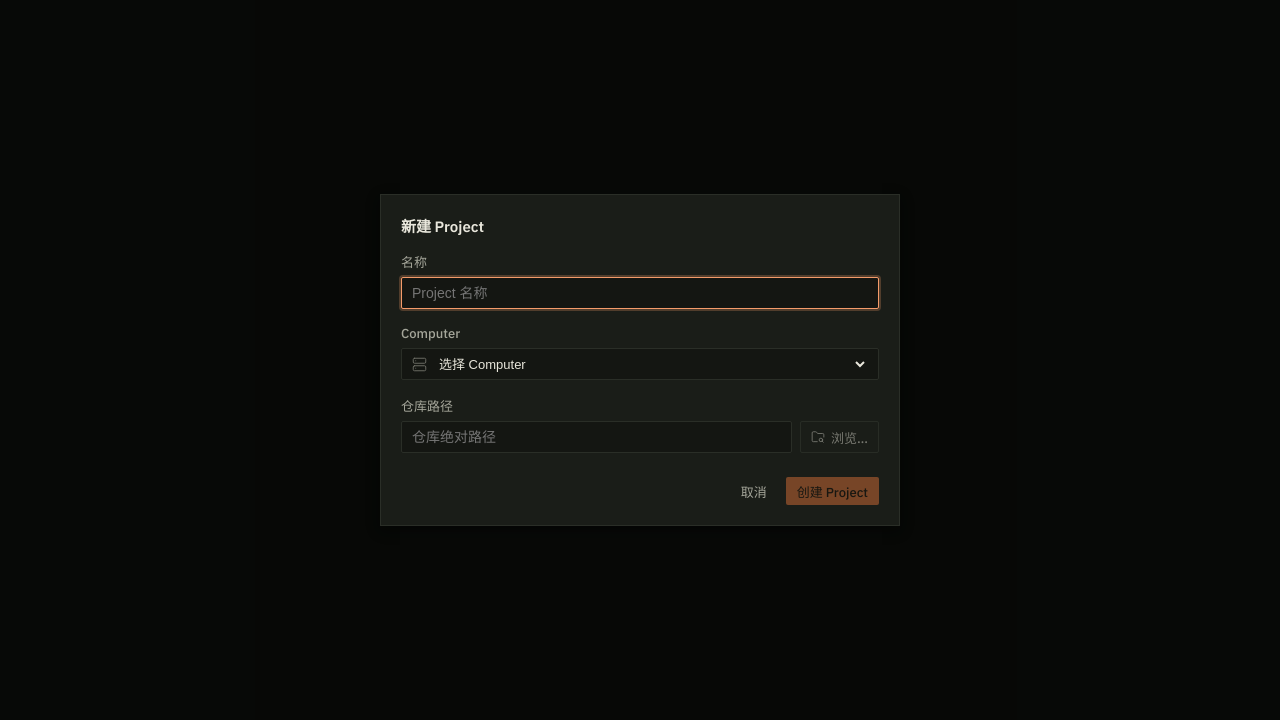
Test: NewProjectModal › VALIDATION_FAILED 就地报错不关窗
Type "Bad" into the field labelled "名称".
click(640, 293); type("Bad")  # box x1=412 y1=285 x2=868 y2=301
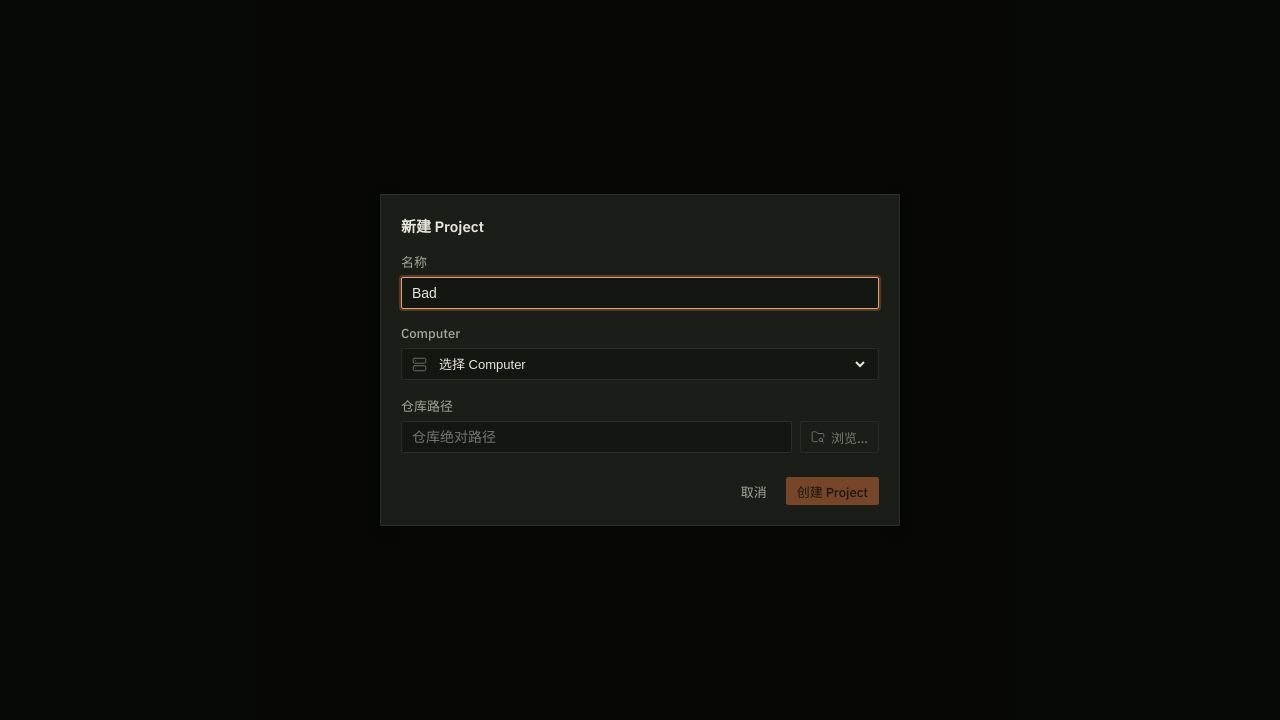
Select "本机" in the dropdown labelled "Computer" at (652, 364), box x1=435 y1=349 x2=868 y2=379
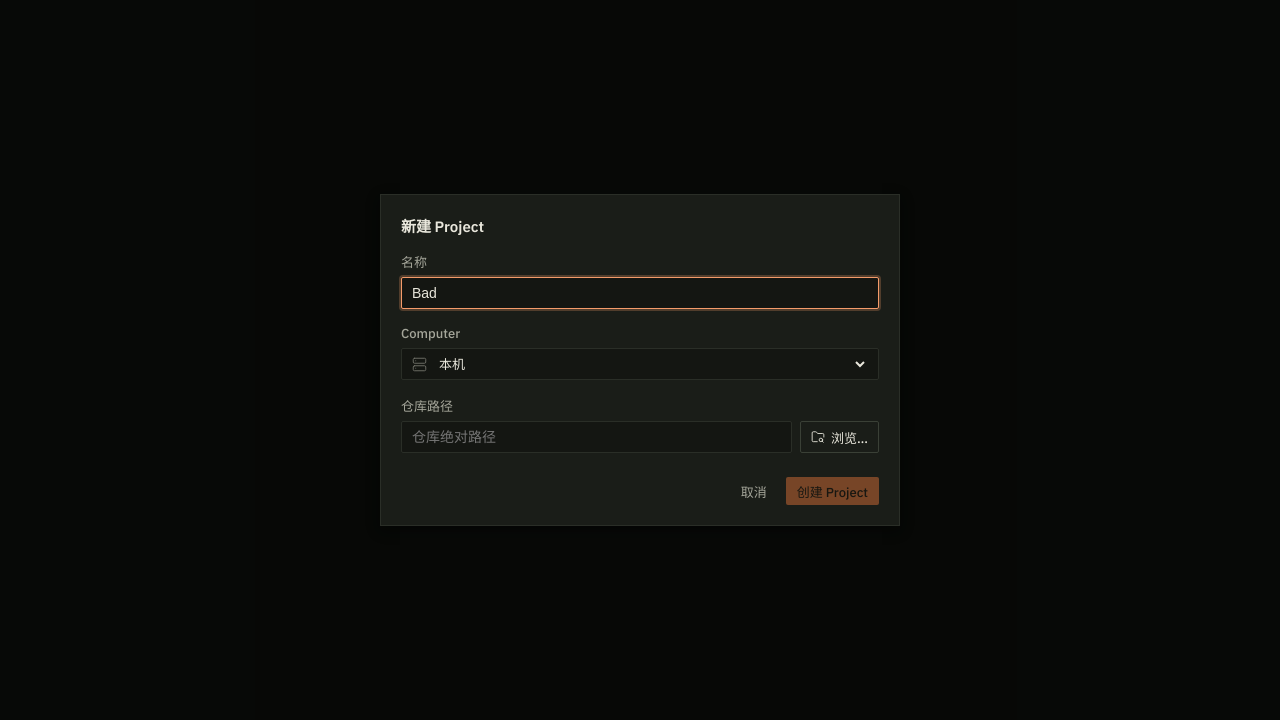
Type "D:/bad" into the field named "仓库路径".
click(596, 437); type("D:/bad")  # box x1=412 y1=428 x2=781 y2=446
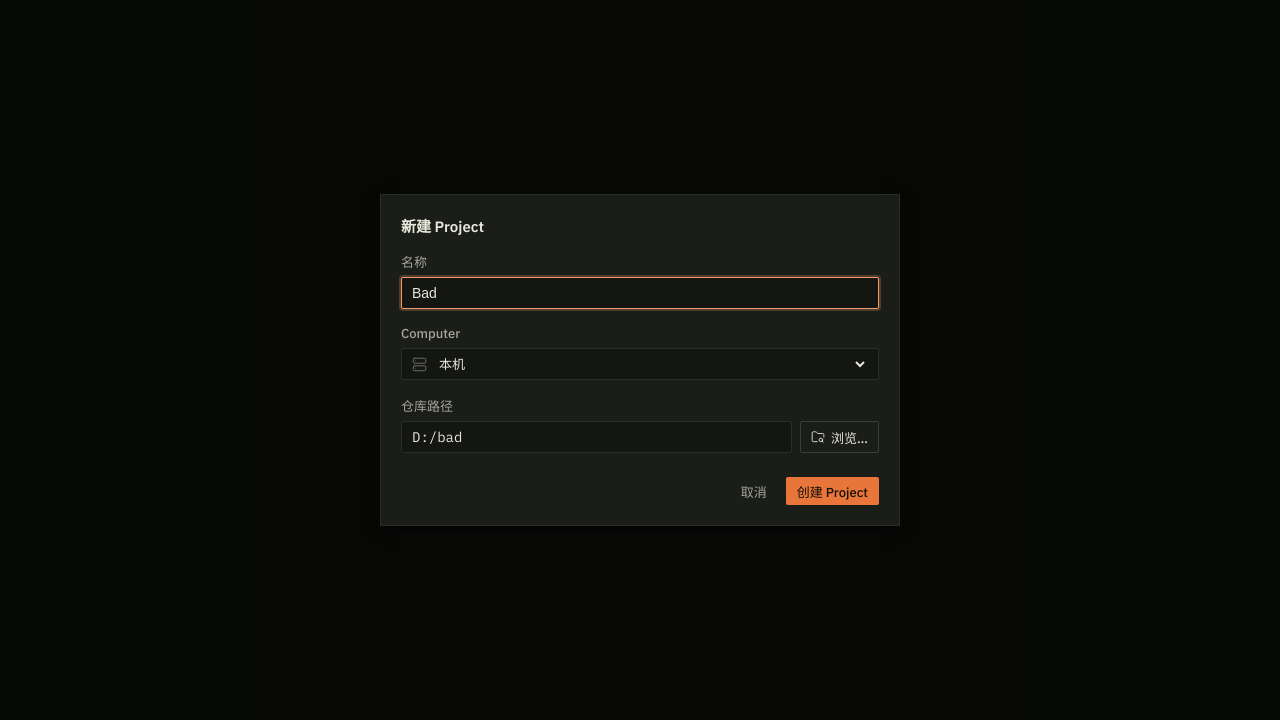
Click the button "创建 Project".
click(832, 491)  # box x1=786 y1=477 x2=879 y2=505
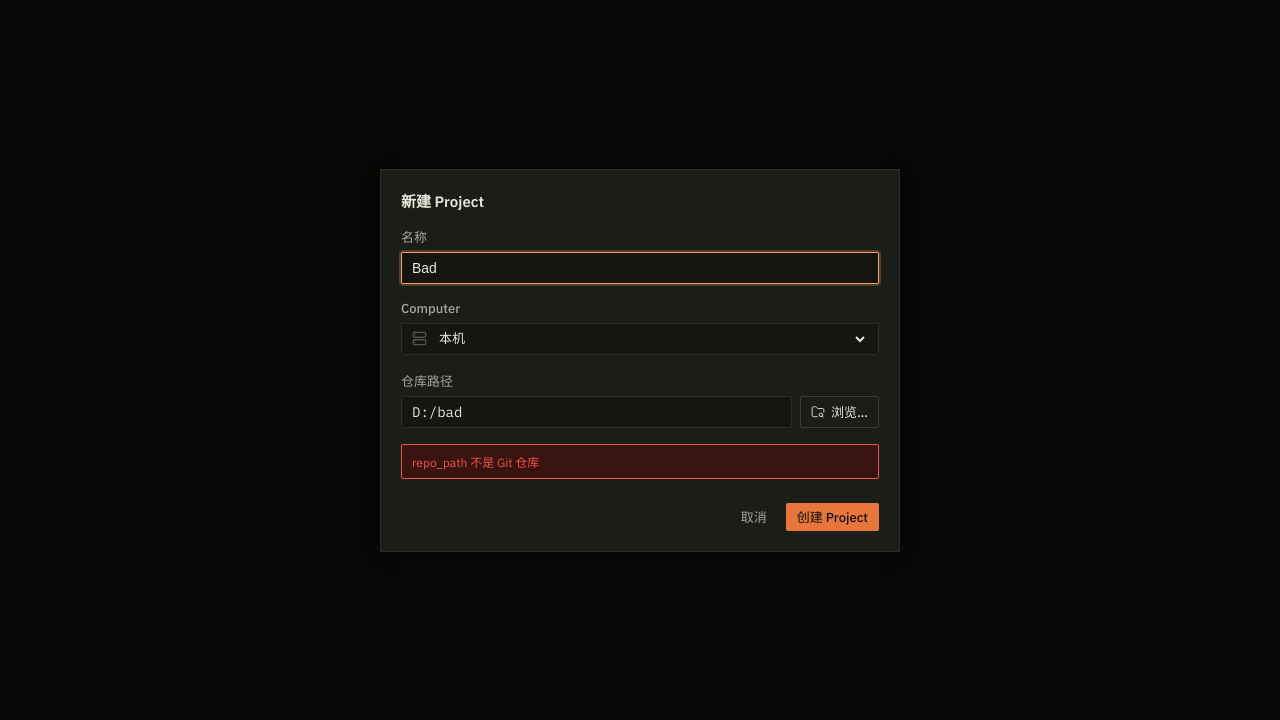
Expected: the dialog "新建 Project" is shown, x1=380 y1=168 x2=900 y2=552
Result: the message shows "不是 Git 仓库" at x1=412 y1=454 x2=539 y2=470
